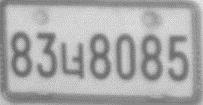0: (115, 32, 136, 80)
3: (36, 31, 58, 78)
5: (167, 35, 189, 81)
8: (140, 33, 163, 81), (88, 33, 111, 79), (10, 30, 32, 78)
너: (60, 40, 84, 80)
